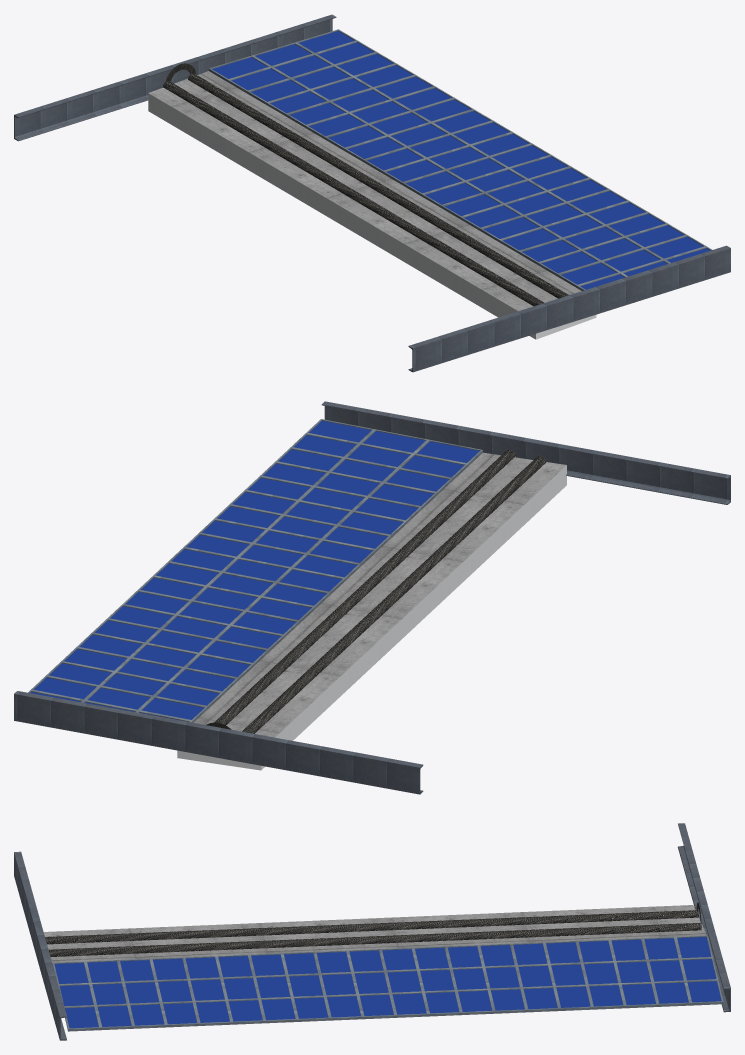
The model's file is Solarteilkl.dae.
3 renders of one model, top to bottom at view 1: azimuth 30°, elevation 25°; view 2: azimuth 150°, elevation 25°; view 3: azimuth 270°, elevation 25°, orthographic. The views are drawn at different scales.
Parts seen in each view (by area): view 1: Komponente (×64); view 2: Komponente (×64); view 3: Komponente (×66).
Boxes of the visible parts, <box> form: Komponente (×64): <box>14,14,730,372</box>; Komponente (×64): <box>14,401,730,794</box>; Komponente (×66): <box>14,823,730,1040</box>.
Size of the model in its own units: 1436 by 2246 by 124.
